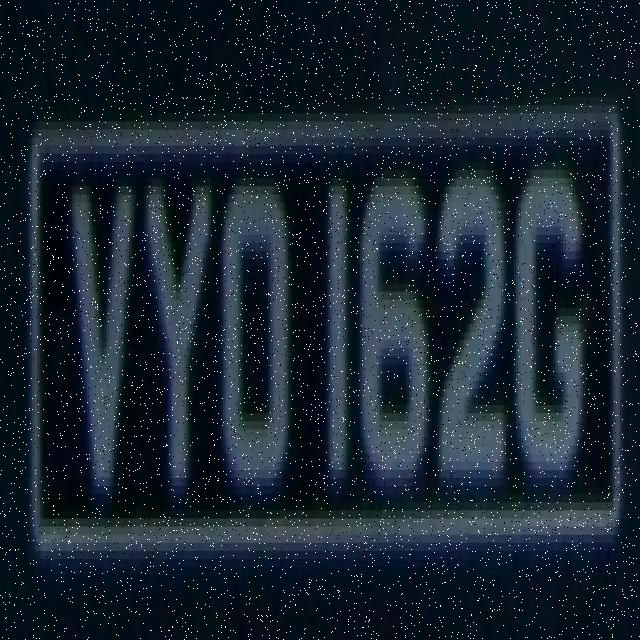licenseplate: (21, 66, 627, 586)
